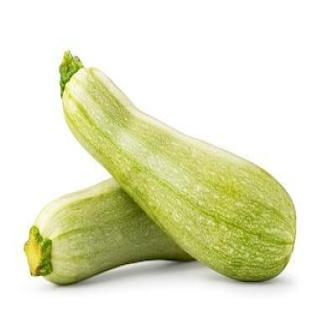Zucchini: (60, 53, 296, 280), (25, 179, 191, 284)
